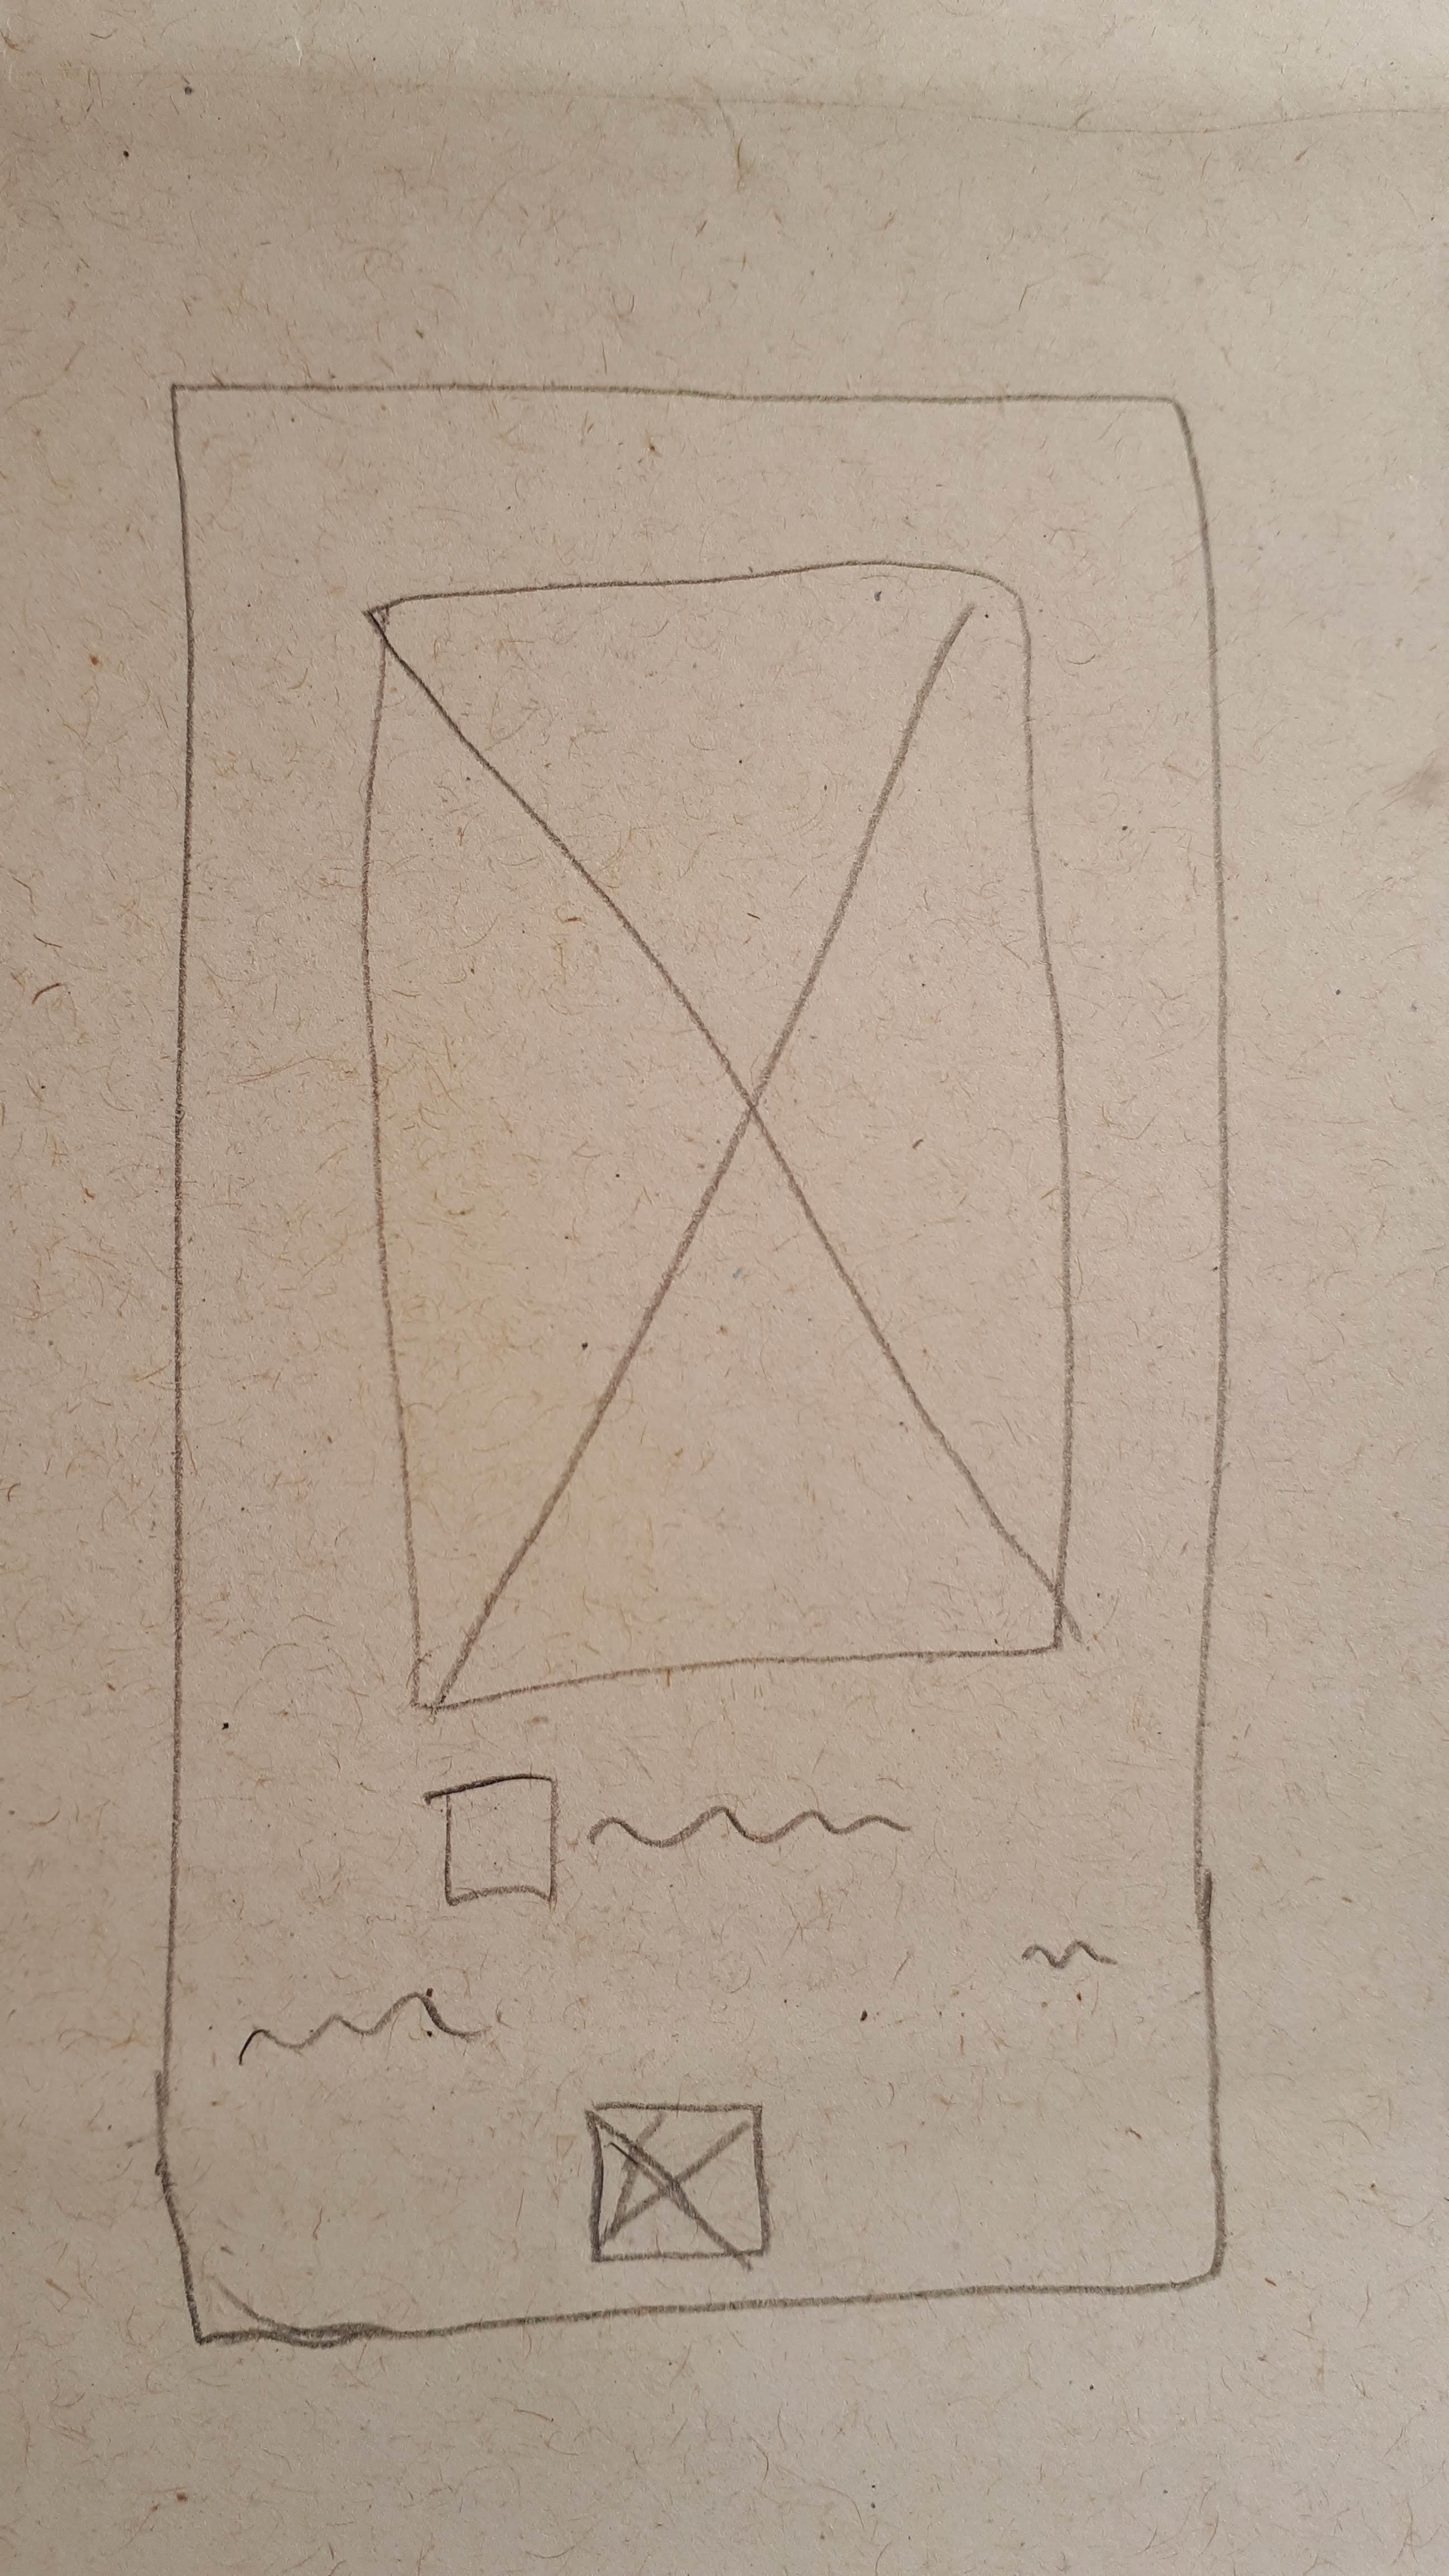CheckBox: (439, 1766, 915, 1907)
Image: (372, 561, 1072, 1711), (589, 2102, 770, 2261)
Label: (232, 1992, 485, 2068), (1017, 1939, 1122, 1969)
Screen: (168, 384, 1226, 2346)
